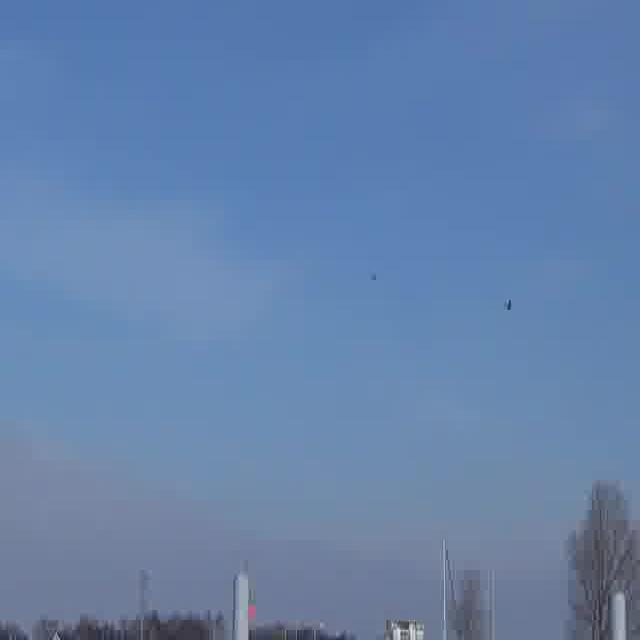bird: (505, 294, 519, 318), (369, 268, 382, 292)
